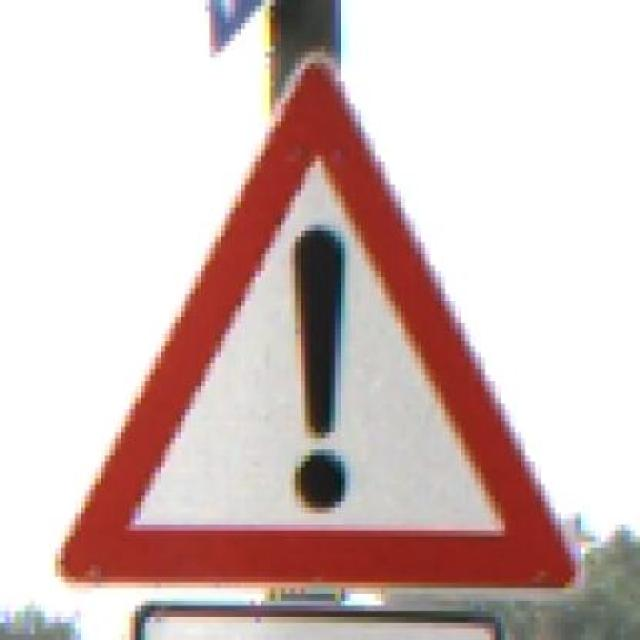Attention Please-: (39, 30, 590, 612)
